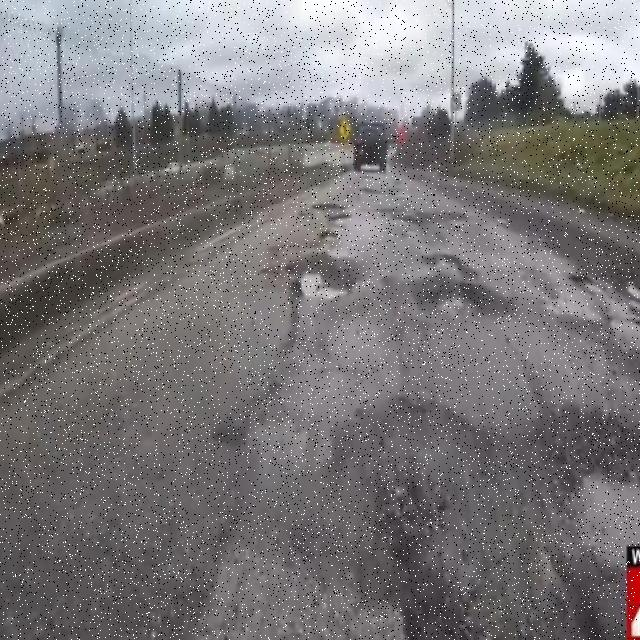pothole: (547, 433, 640, 573), (419, 277, 477, 323), (292, 260, 350, 298)
